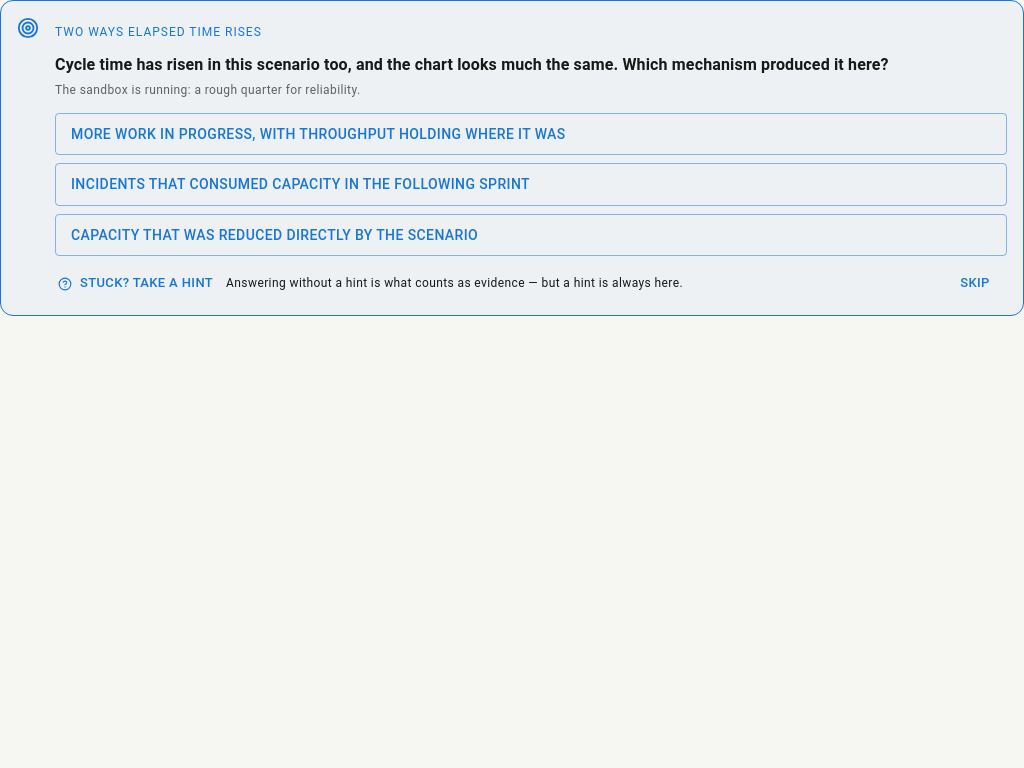
Test: the guided loop › shows the mechanism typed as the ledger types it
Step 1. Click the button "Incidents that consumed capacity in the following sprint" → (531, 185), box top-left (55, 163), bottom-right (1007, 206)
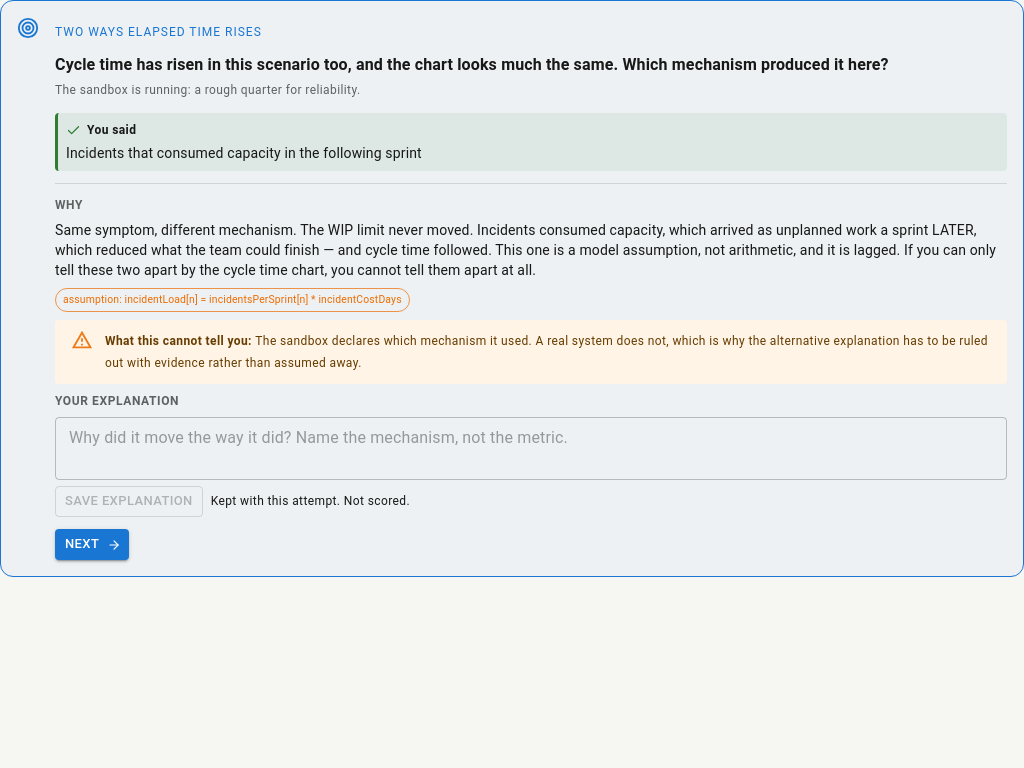
expect the text "assumption:" is shown: met, box top-left (63, 293), bottom-right (402, 306)
